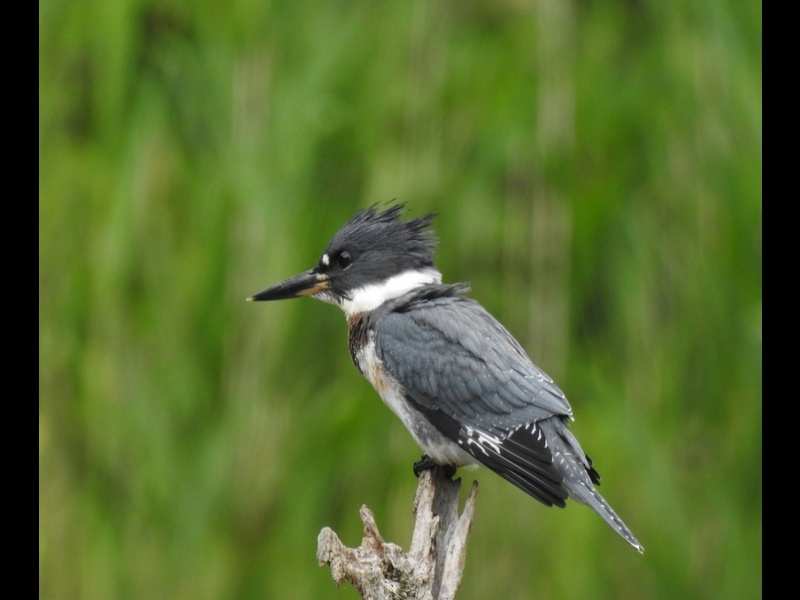kingfisher: (237, 193, 651, 558)
